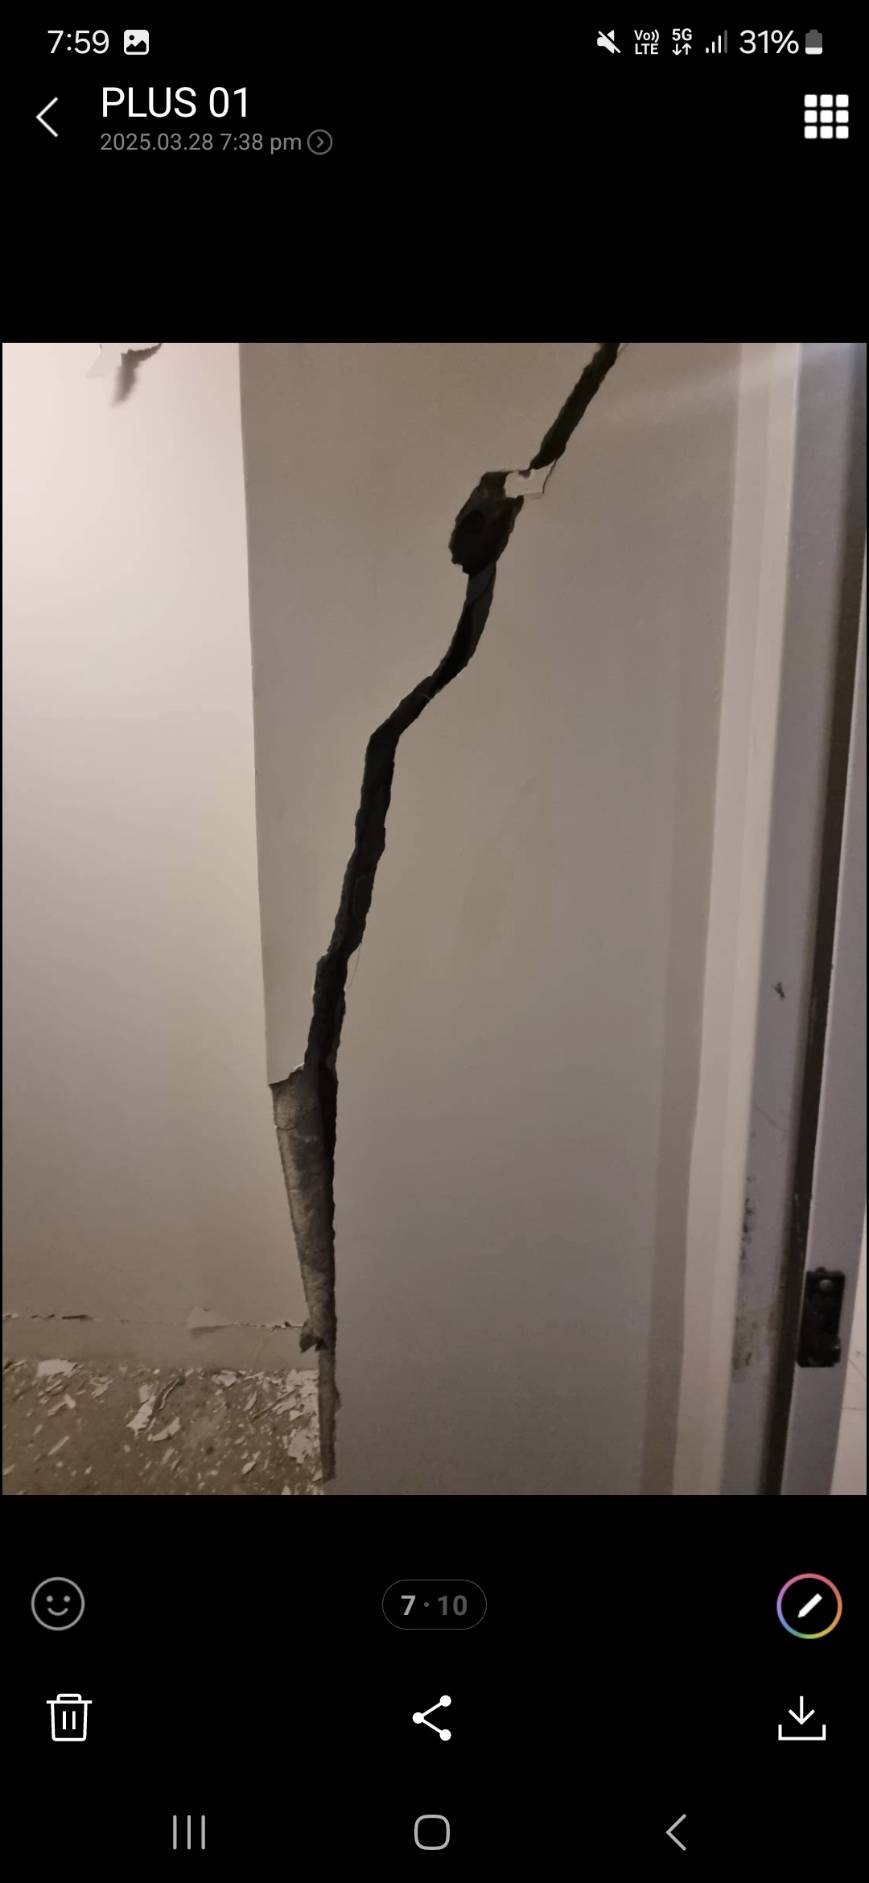High: (215, 337, 651, 1537)
